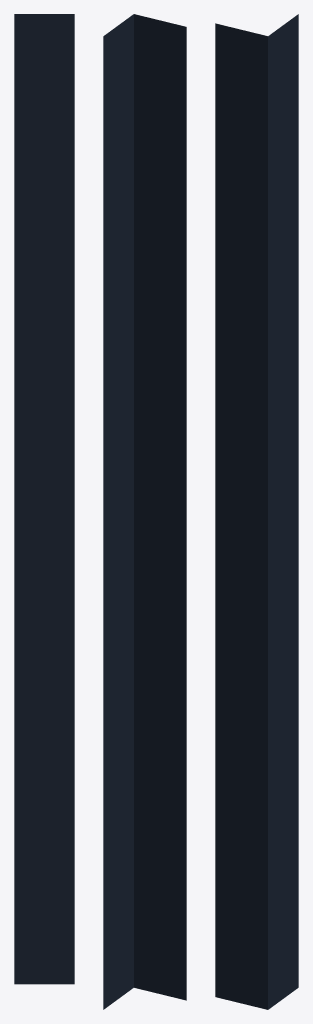
File: fogwallconvex.fbx
3 views of the same model, side by side, from view 1: azimuth 90°, elevation 25°; view 2: azimuth 150°, elevation 25°; view 3: azimuth 330°, elevation 25° (orthographic).
Visible parts, largest first — view 1: foghorizontalnolight; view 2: foghorizontalnolight; view 3: foghorizontalnolight.
Part boxes in pixels (left/top/right/bottom): foghorizontalnolight: left=14, top=14, right=74, bottom=984; foghorizontalnolight: left=103, top=14, right=186, bottom=1009; foghorizontalnolight: left=215, top=14, right=298, bottom=1009.
Size of the model in its own units: 1.13 by 20 by 1.13.
